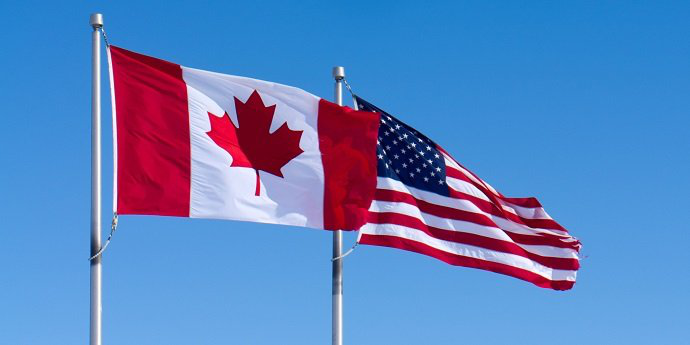America flag: (358, 96, 585, 295)
Canada flag: (104, 51, 374, 231)
